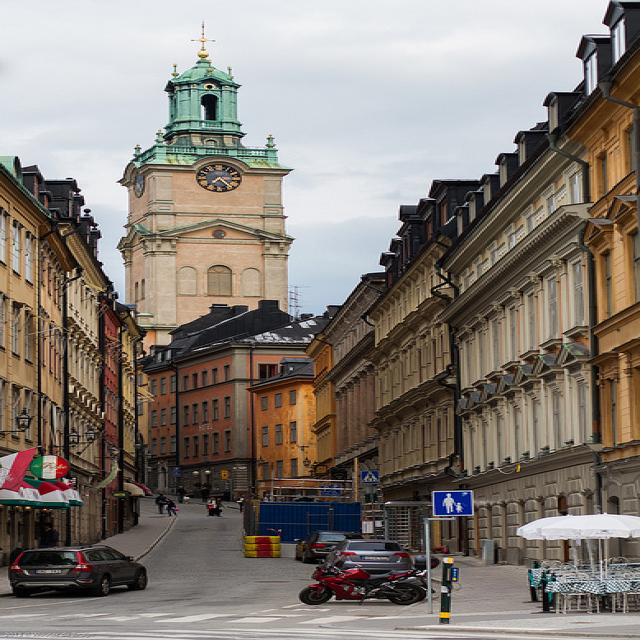motor: (298, 559, 429, 606)
